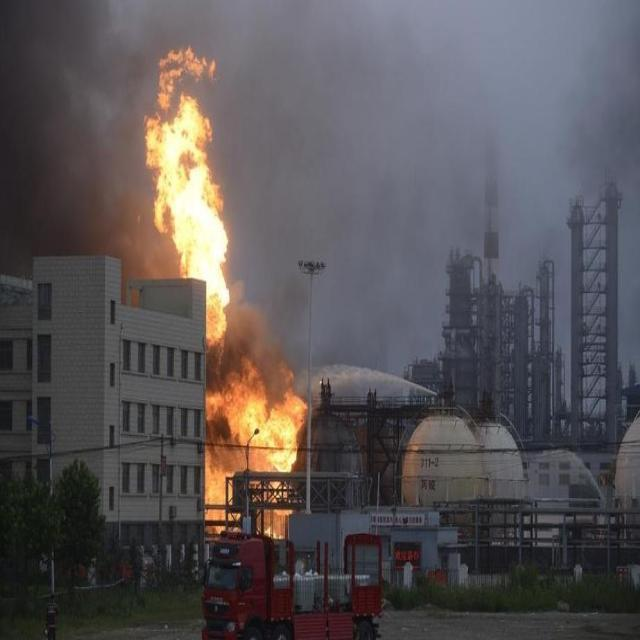Fire: (138, 24, 244, 367), (196, 346, 312, 538)
Smoke: (240, 0, 450, 376), (543, 0, 640, 361), (0, 2, 137, 256)
